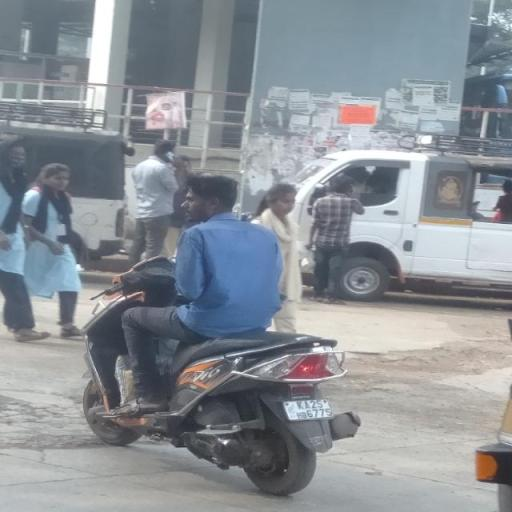bike: (60, 171, 371, 499)
numberplate: (280, 390, 341, 426)
withouthelmet: (183, 176, 234, 218)
